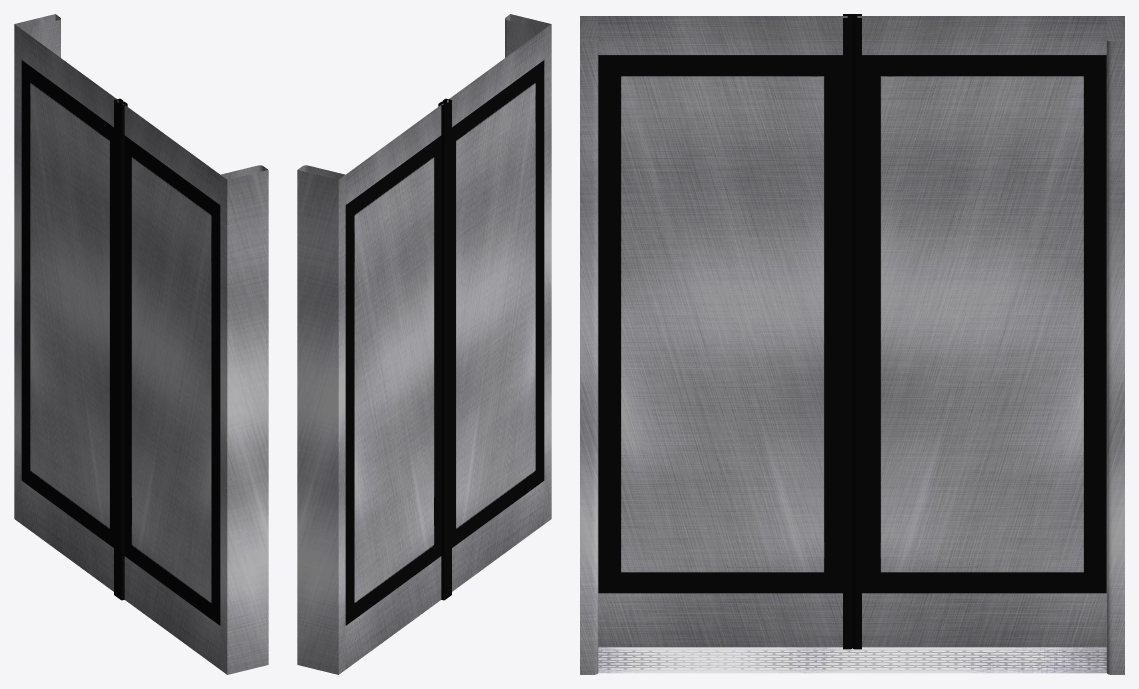
File: Door.FBX
3 renders of one model, left to right at view 1: azimuth 30°, elevation 25°; view 2: azimuth 150°, elevation 25°; view 3: azimuth 270°, elevation 25°, orthographic. The views are drawn at different scales.
Parts seen in each view (by area): view 1: Object240, Object239, Object236, Object238, Object237; view 2: Object239, Object240, Object236, Object237, Object238; view 3: Object239, Object240, Object237, Object238, Object236.
Boxes of the visible parts, box(x1,y1,x2,y2) form: Object240: box(31, 84, 109, 527); Object239: box(132, 158, 210, 601); Object236: box(14, 14, 268, 674); Object238: box(118, 101, 220, 669); Object237: box(21, 29, 123, 597); Object239: box(456, 84, 534, 527); Object240: box(355, 158, 433, 601); Object236: box(297, 14, 551, 674); Object237: box(345, 101, 447, 669); Object238: box(442, 29, 544, 597); Object239: box(622, 77, 823, 571); Object240: box(881, 77, 1082, 571); Object237: box(852, 14, 1106, 649); Object238: box(598, 14, 852, 649); Object236: box(580, 16, 1124, 674).
Bounding box in the file's own units: 216 × 2300 × 1793.
